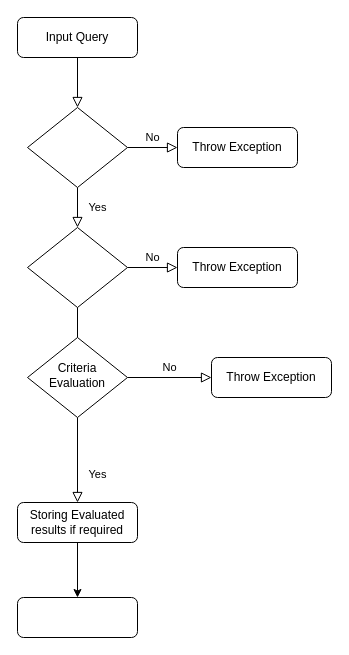
Image size: 349x655. Some labels were removed from this diagram. The shapes that lost their labels are listed below. From the top down, each one's centre as x and y in pixels, then its label:
At pixel 77 147: "Syntax Check".
At pixel 77 267: "Semantics Check".
At pixel 77 617: "Output Results".
